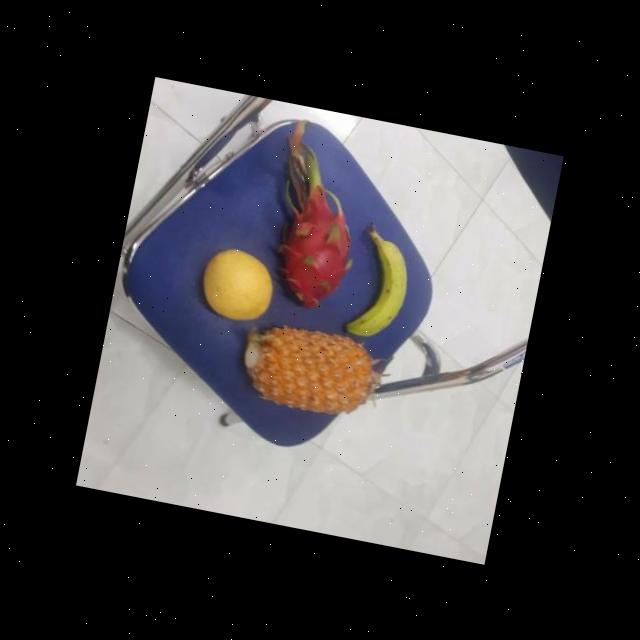Sakya fruit: (234, 316, 384, 426)
banana: (344, 236, 416, 345)
pear: (196, 242, 280, 331)
pitaya: (262, 178, 362, 320)
